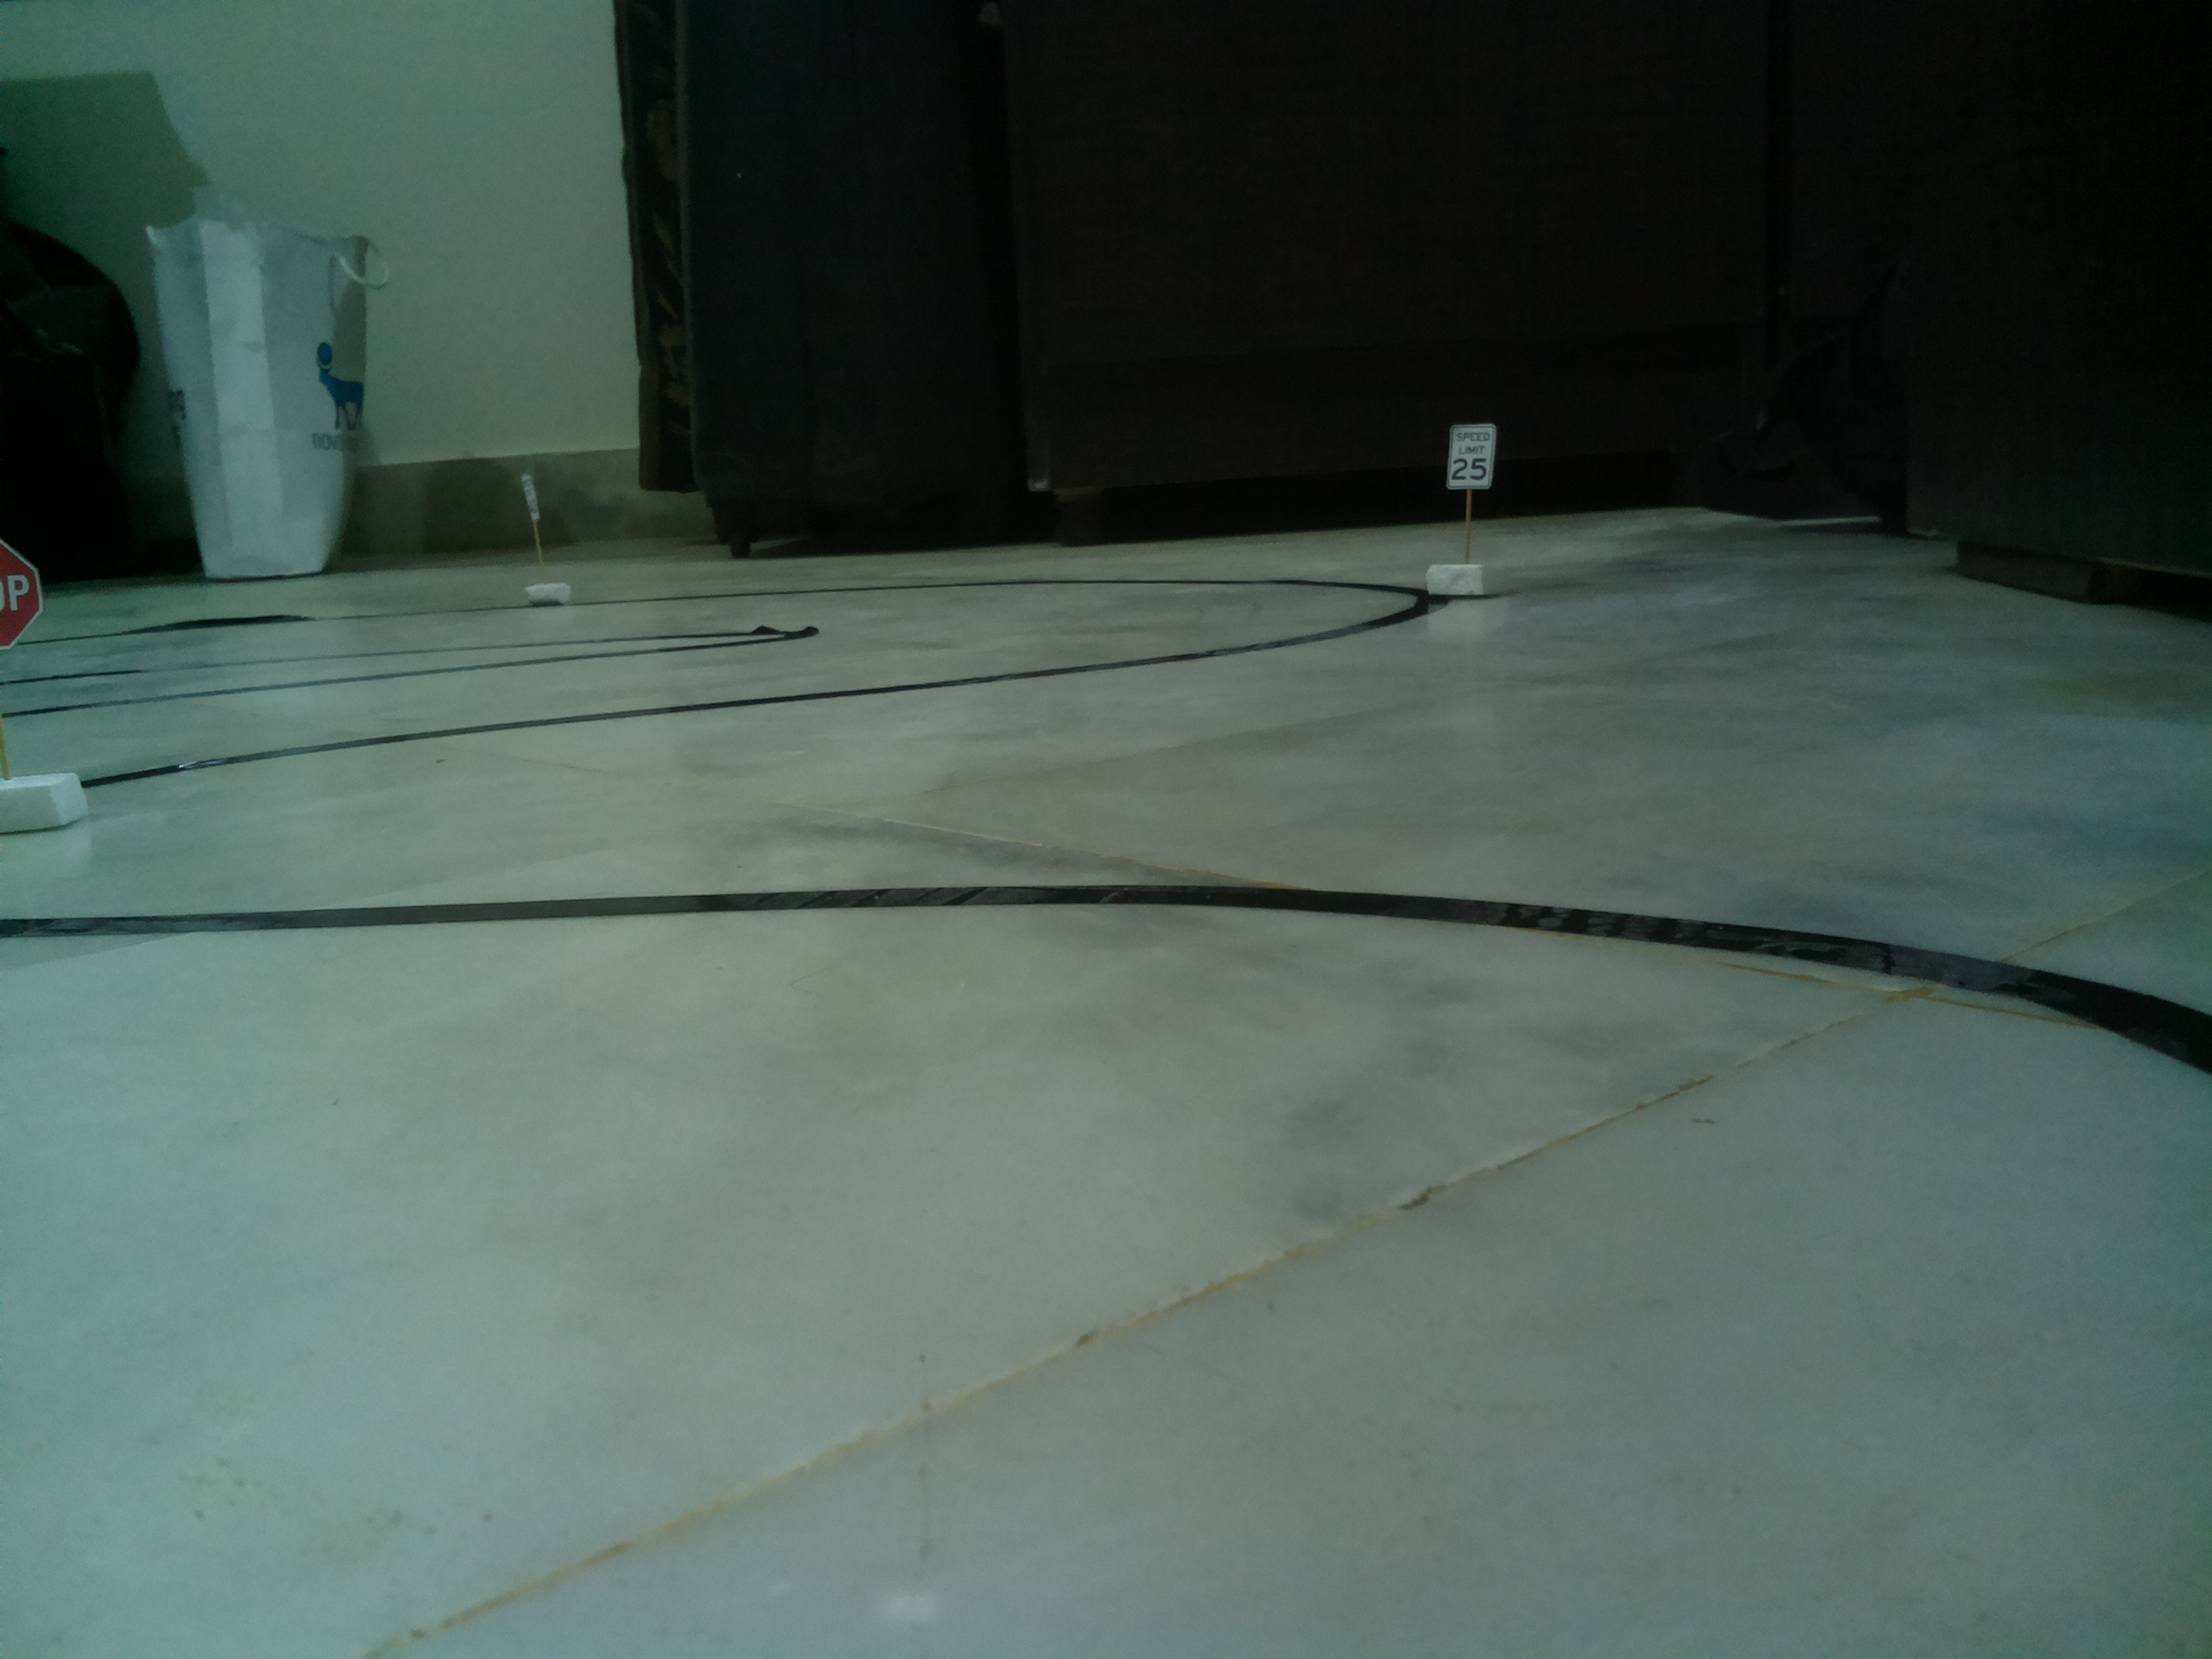Speed limit 25: (1451, 423, 1494, 488)
Stop sign: (0, 537, 44, 653)
